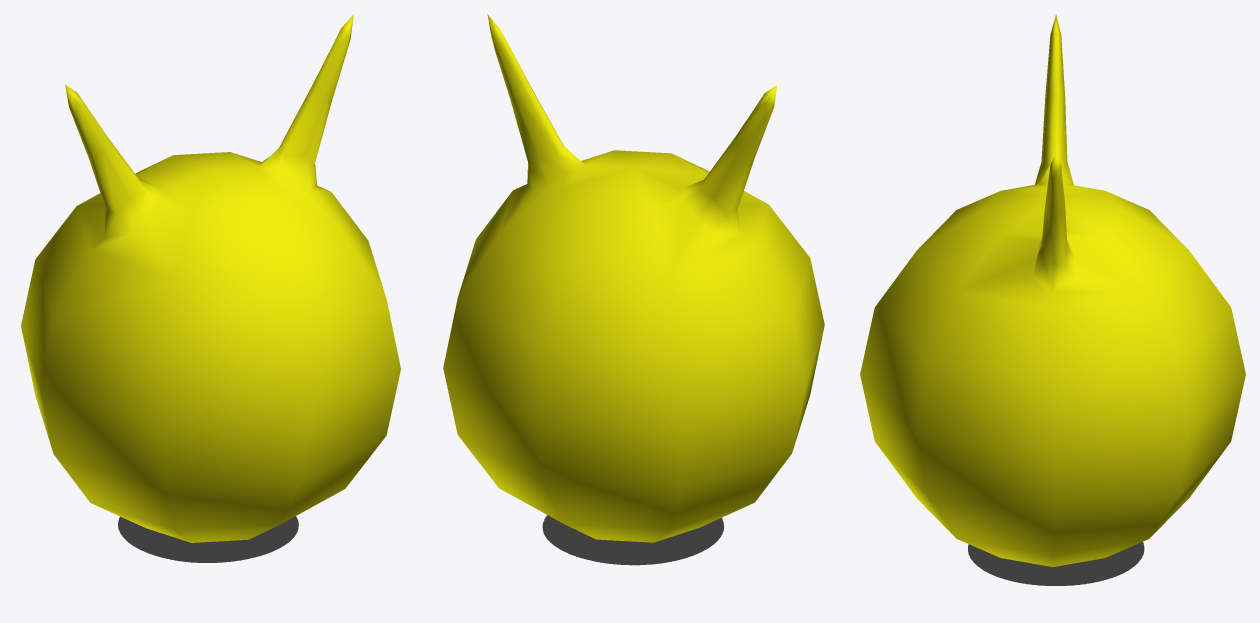
The model's file is horn_ball_02.DAE.
3 renders of one model, left to right at view 1: azimuth 30°, elevation 25°; view 2: azimuth 150°, elevation 25°; view 3: azimuth 270°, elevation 25°, orthographic. The views are drawn at different scales.
Parts seen in each view (by area): view 1: horn_ball_02, sd_horn_ball_02; view 2: horn_ball_02, sd_horn_ball_02; view 3: horn_ball_02, sd_horn_ball_02.
Boxes of the visible parts, x1=… form: horn_ball_02: x1=21, y1=14, x2=400, y2=542; sd_horn_ball_02: x1=118, y1=516, x2=298, y2=562; horn_ball_02: x1=443, y1=14, x2=824, y2=542; sd_horn_ball_02: x1=542, y1=515, x2=723, y2=565; horn_ball_02: x1=860, y1=14, x2=1245, y2=566; sd_horn_ball_02: x1=968, y1=542, x2=1144, y2=585.
Bounding box in the file's own units: 587 × 587 × 782.
2 materials, 2 textured.
